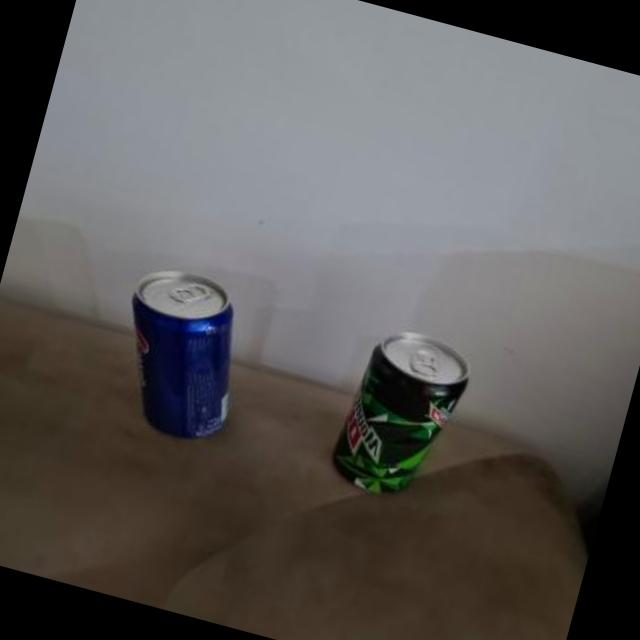metal: (336, 329, 470, 489), (134, 268, 234, 434)
